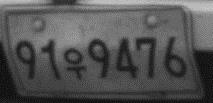1: (39, 38, 62, 83)
4: (113, 37, 139, 80)
6: (163, 34, 188, 80)
7: (134, 36, 157, 79)
9: (87, 38, 110, 80), (14, 39, 36, 79)
우: (62, 47, 87, 83)
